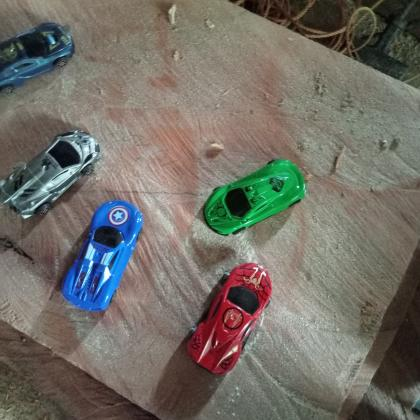Car: (184, 262, 276, 376), (59, 198, 146, 313), (0, 129, 103, 221), (202, 158, 308, 236)
